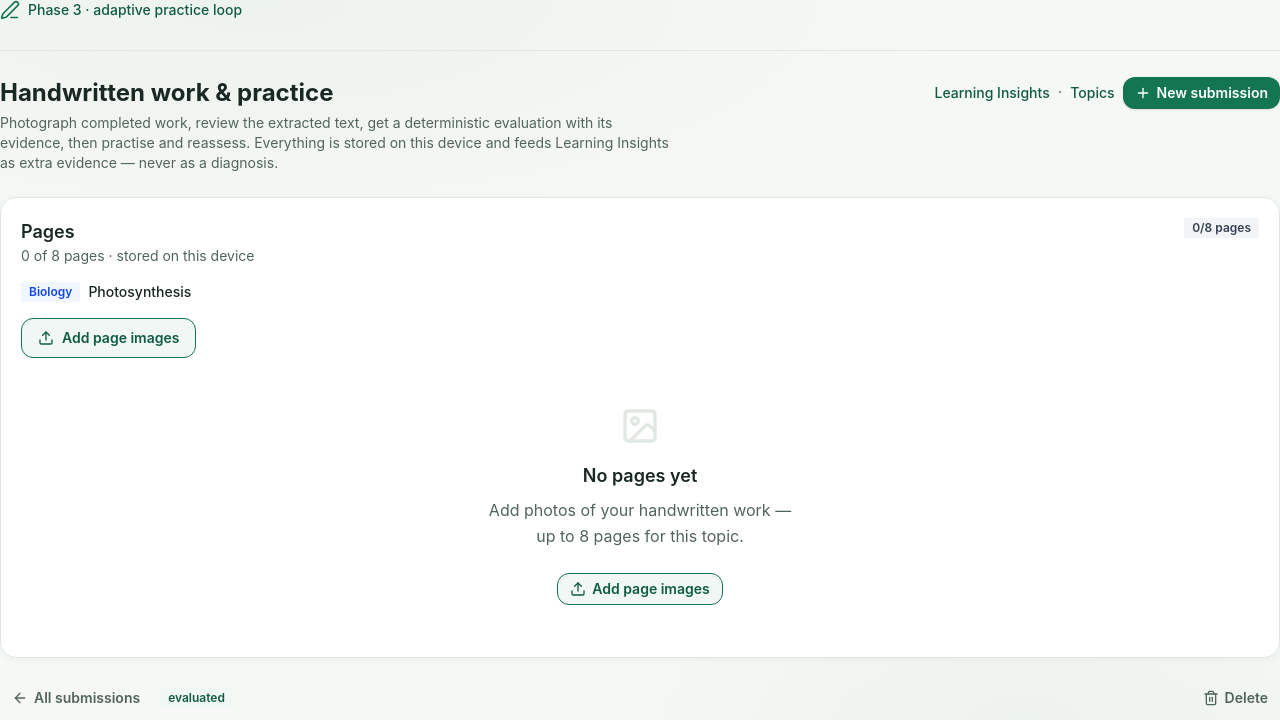
HandwritingPage › starts a new submission without discarding the active one from history
Click the button with test id "new-submission" at (1201,93), box left=1123, top=77, right=1279, bottom=109
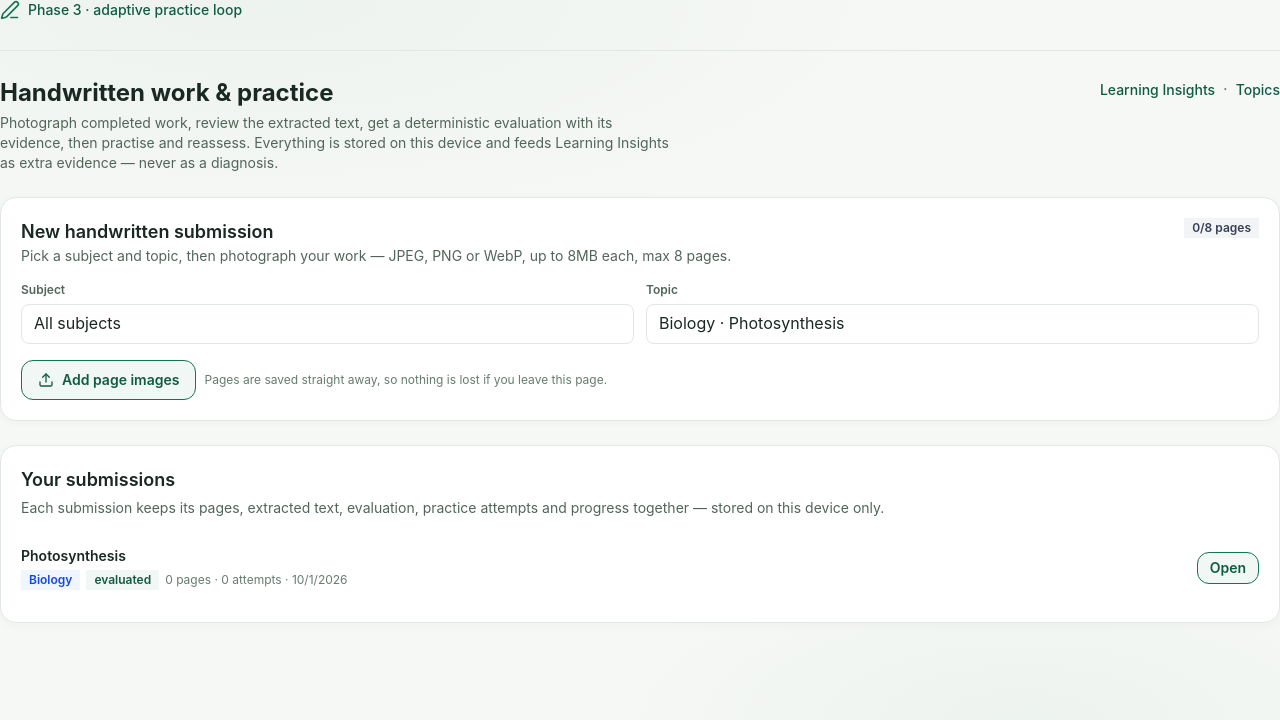
Now the dropdown with test id "composer-topic" shows "Biology · Photosynthesis", box left=646, top=304, right=1259, bottom=344
